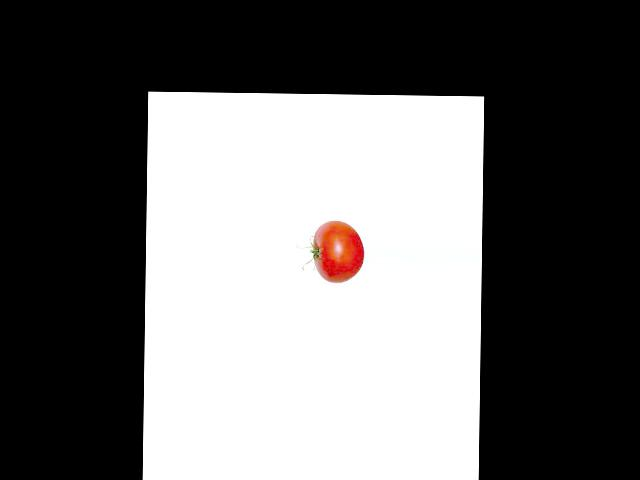tomato: (312, 220, 364, 282)
